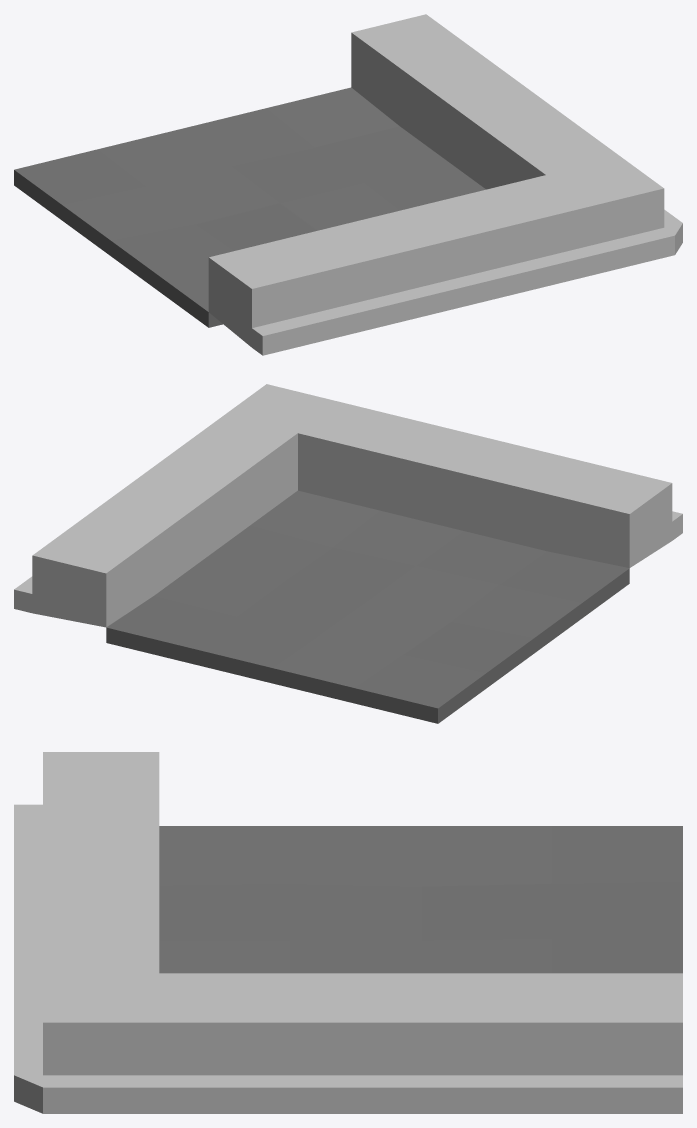
The model's file is RoofFlatCorner.fbx.
The picture shows the model from 3 angles, top to bottom: view 1: azimuth 30°, elevation 25°; view 2: azimuth 150°, elevation 25°; view 3: azimuth 270°, elevation 25°; orthographic projection. The views are drawn at different scales.
Visible parts, largest first — view 1: RoofFlatCorner; view 2: RoofFlatCorner; view 3: RoofFlatCorner.
Part boxes in pixels (<box>): RoofFlatCorner: <box>14,14,682,355</box>; RoofFlatCorner: <box>14,384,682,723</box>; RoofFlatCorner: <box>14,752,682,1113</box>.
Bounding box in the file's own units: 115 × 18 × 115.
